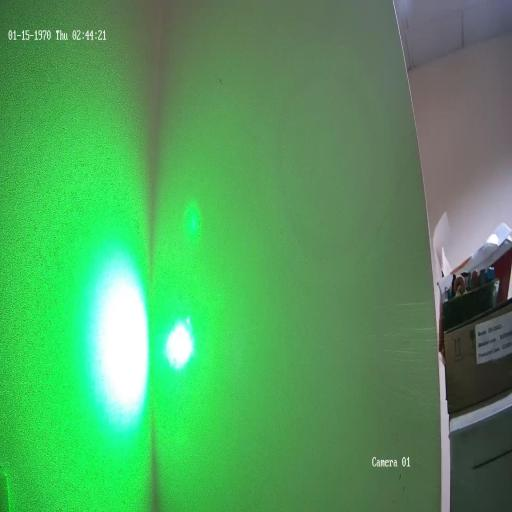laser: (160, 306, 200, 378)
